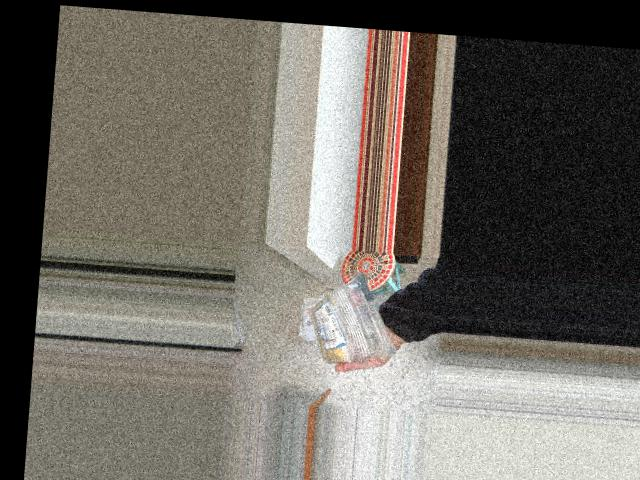cheese: (289, 262, 402, 366)
